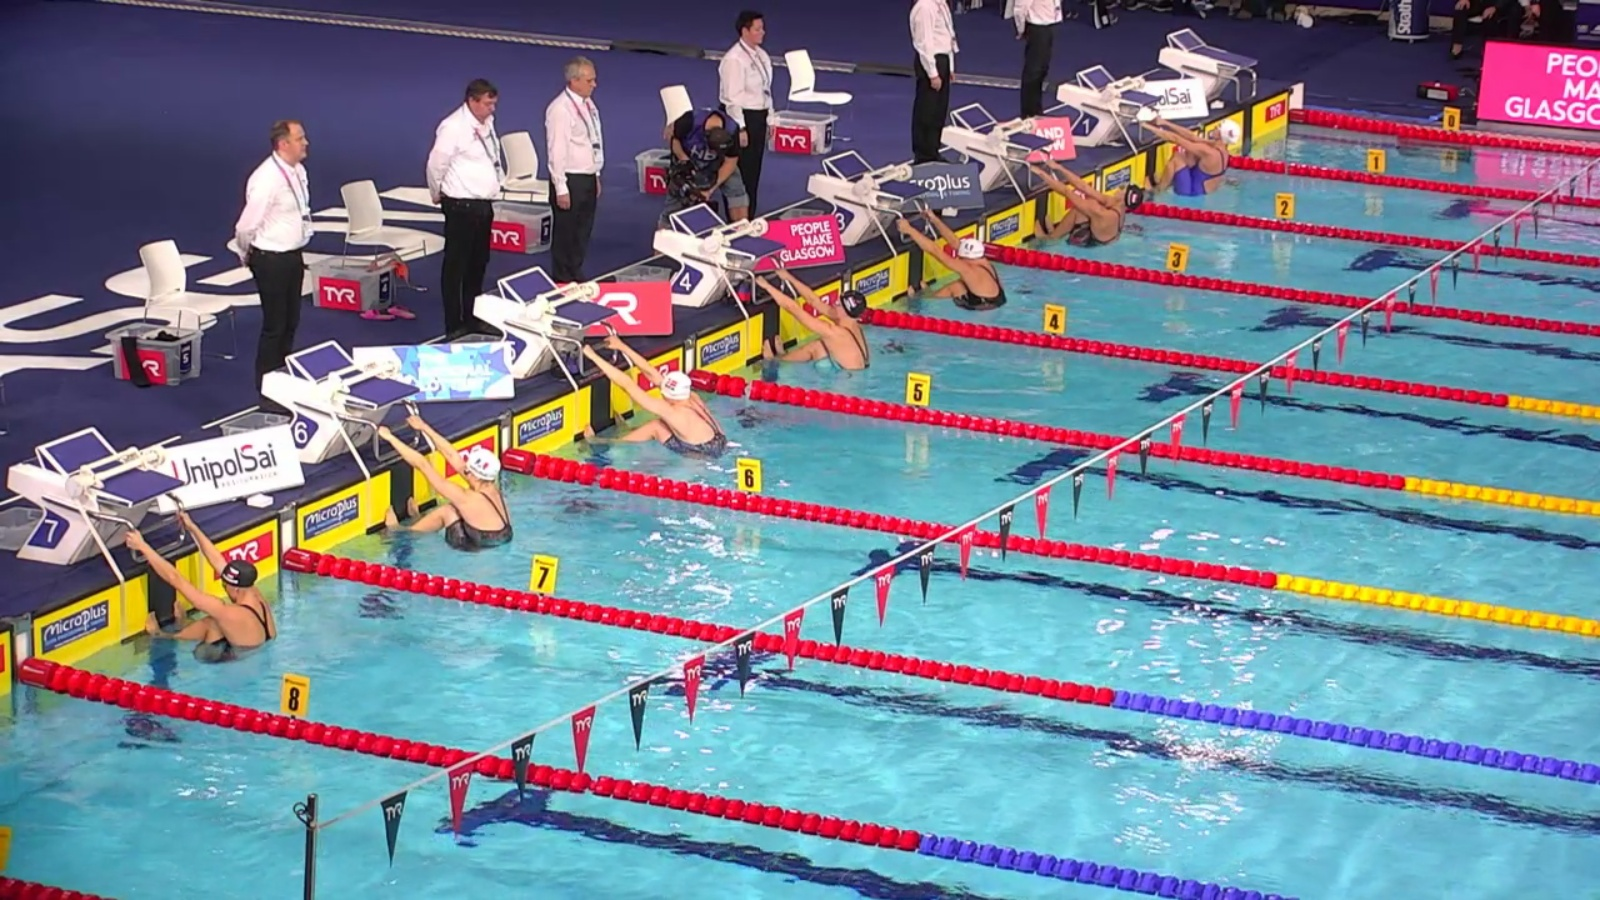swimmerw: (135, 509, 277, 663), (578, 333, 729, 471), (382, 413, 518, 560), (749, 262, 878, 384), (897, 208, 1016, 321), (1023, 164, 1145, 249), (1143, 113, 1243, 196)
